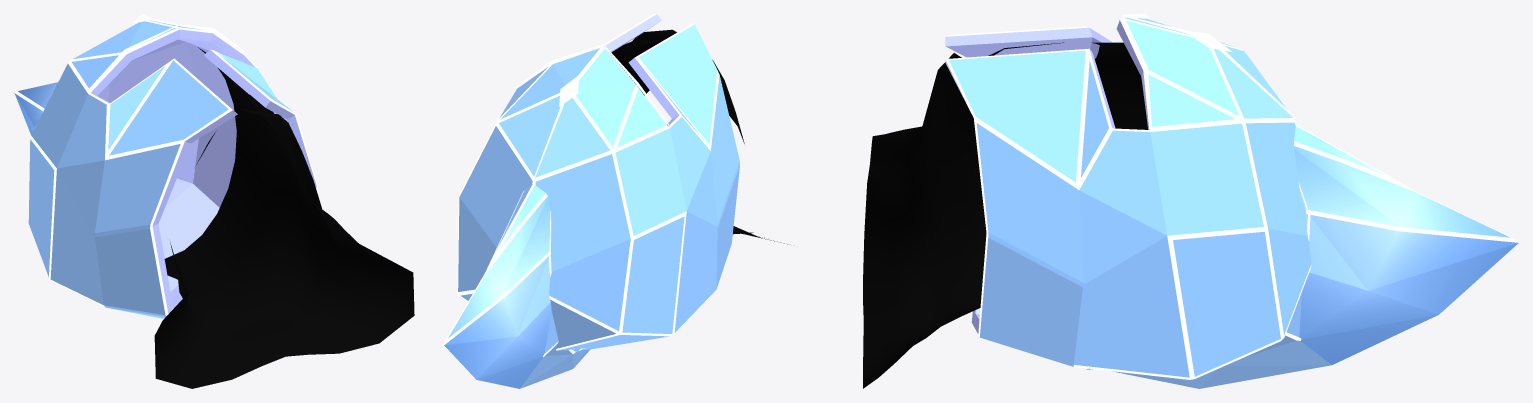
The model's file is Moonstone Helm-Bx_ux_4z.glb.
3 views of the same model, side by side, from view 1: azimuth 30°, elevation 25°; view 2: azimuth 150°, elevation 25°; view 3: azimuth 270°, elevation 25° (orthographic). The views are drawn at different scales.
Parts seen in each view (by area): view 1: Moonstone Helm.001; view 2: Moonstone Helm.001; view 3: Moonstone Helm.001.
Boxes of the visible parts, x1=… form: Moonstone Helm.001: x1=14, y1=14, x2=414, y2=388; Moonstone Helm.001: x1=443, y1=14, x2=787, y2=388; Moonstone Helm.001: x1=863, y1=14, x2=1518, y2=388.
Bounding box in the file's own units: 0.284 × 0.3238 × 0.515.
Materials: 6 (1 with a texture image).
